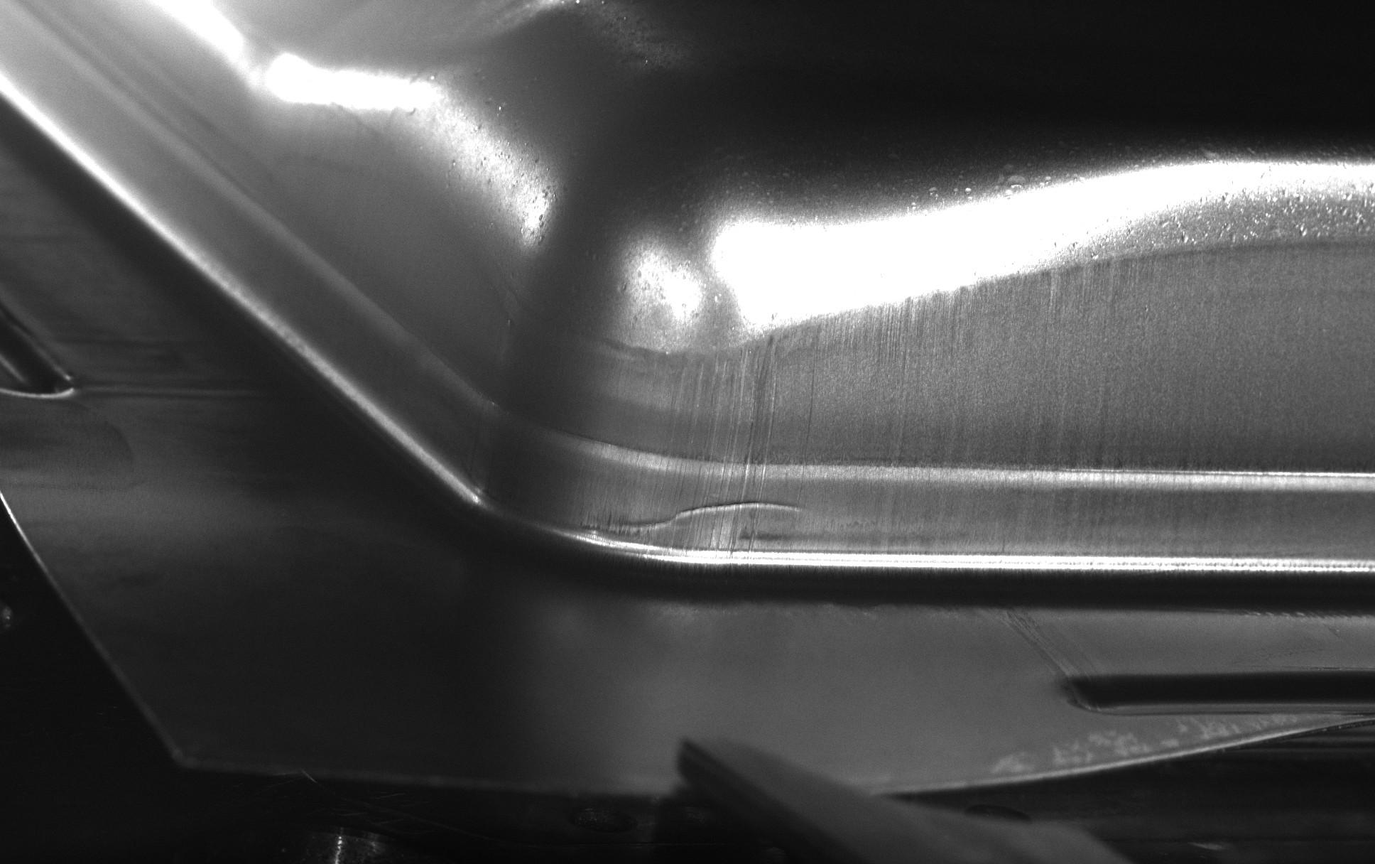crack: (498, 365, 870, 568)
